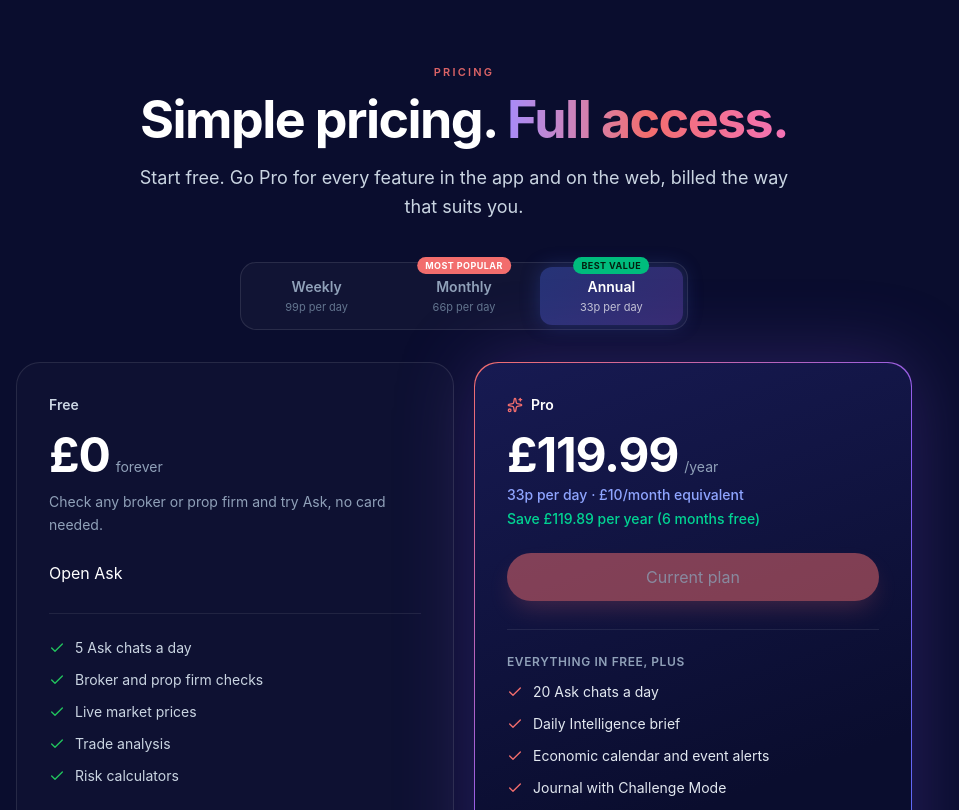
Test: PricingPlansSection › opens on the subscriber's current plan and offers Stripe plan changes on the others
Expected: the button "Current plan" is disabled, [507,553,879,601]
Click the radio button labelled "Weekly 99p per day": (317, 296) [245,267,388,325]
(page scrolled)
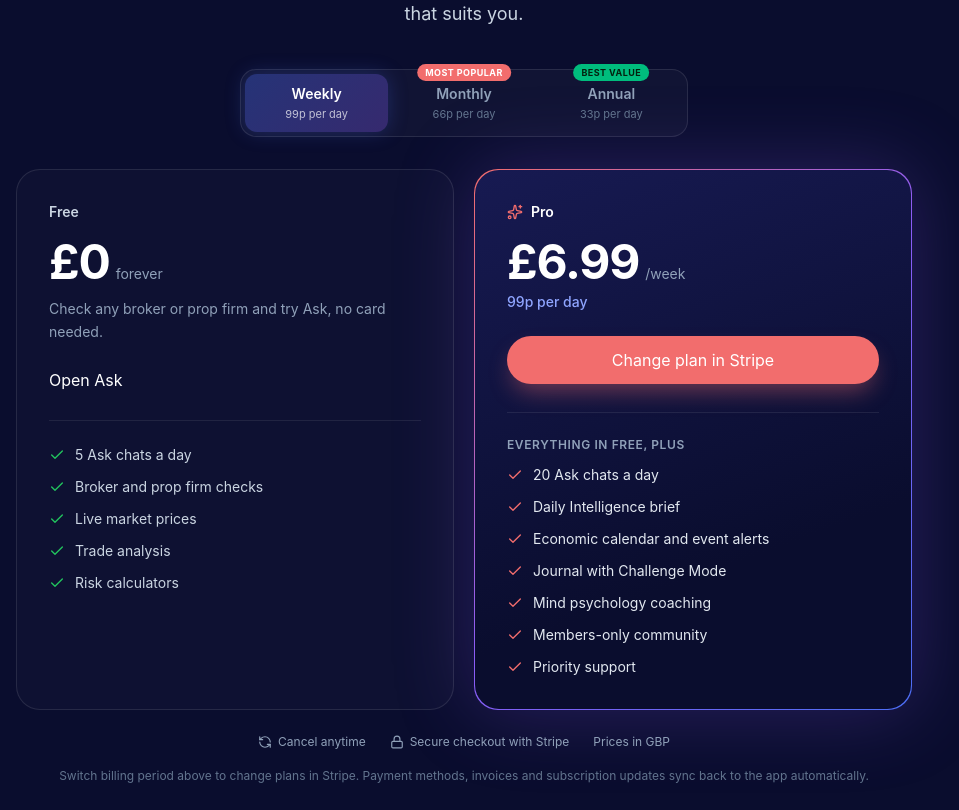
Expected: the text "subscription updates sync back to the app automatically" is shown, [59,768,869,783]
Result: the button "Change plan in Stripe" is shown at [507,336,879,384]
